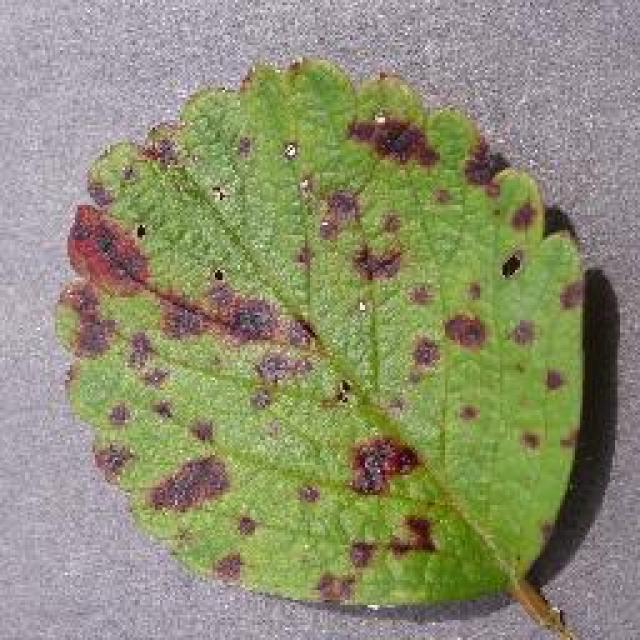Strawberry leaf scorch: (105, 168, 532, 497)
